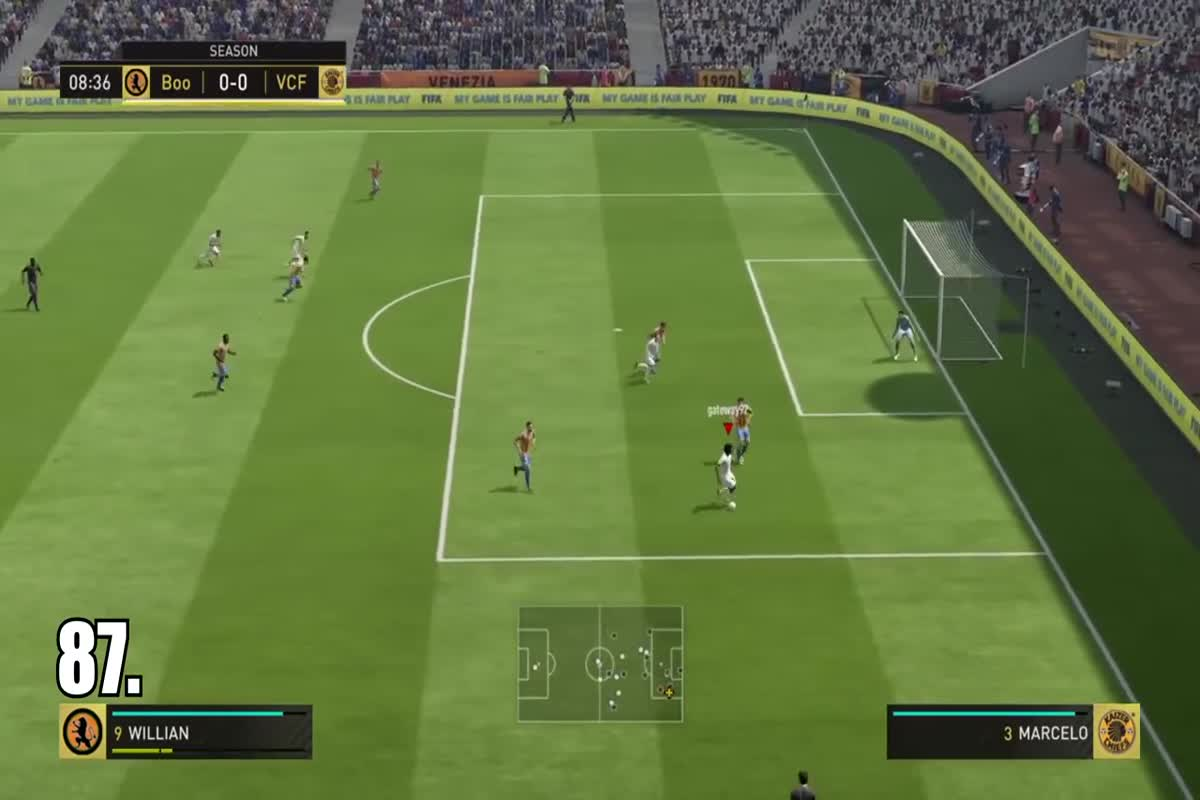ball: (721, 496, 744, 517)
